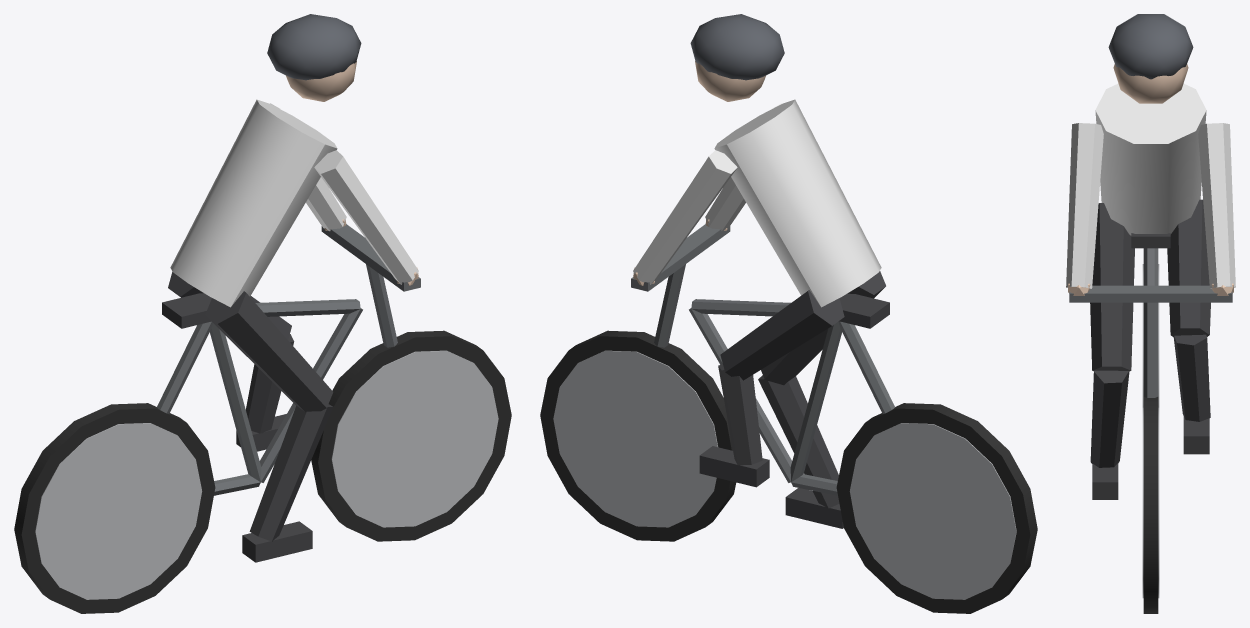
Rendered from bike.glb.
3 renders of one model, left to right at view 1: azimuth 30°, elevation 25°; view 2: azimuth 150°, elevation 25°; view 3: azimuth 270°, elevation 25°, orthographic.
Parts seen in each view (by area): view 1: bike; view 2: bike; view 3: bike.
Part boxes in pixels (x1,y1,x2,y2): bike: [14, 14, 511, 613]; bike: [540, 14, 1037, 613]; bike: [1066, 14, 1235, 613].
Size of the model in its own units: 1.72 by 1.82 by 0.5195.
